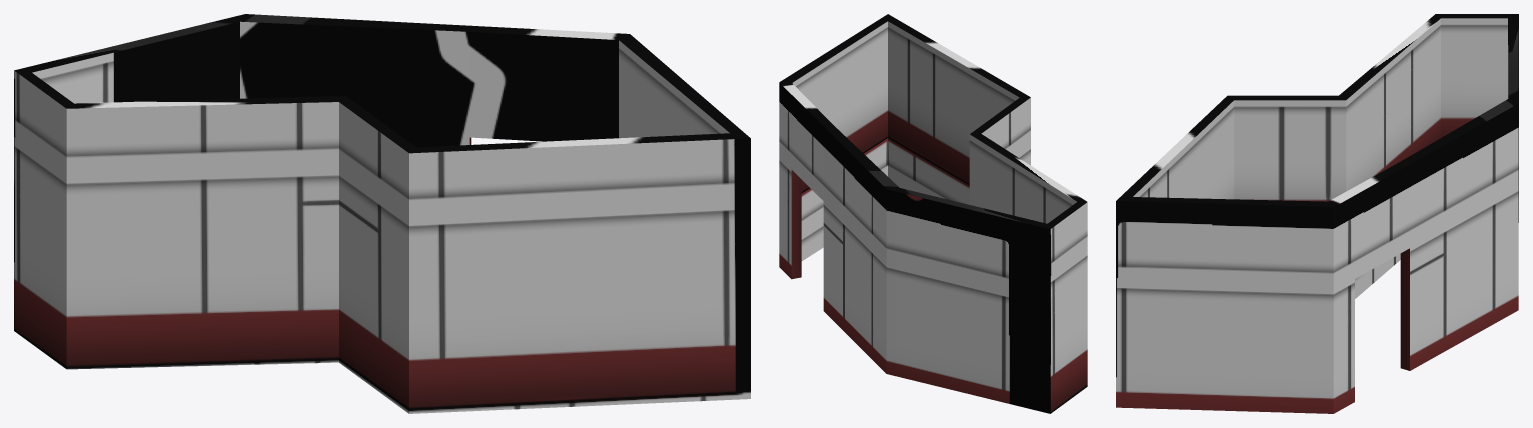
The model's file is MainFirstFloorRest0.FBX.
3 views of the same model, side by side, from view 1: azimuth 30°, elevation 25°; view 2: azimuth 150°, elevation 25°; view 3: azimuth 270°, elevation 25° (orthographic). The views are drawn at different scales.
Visible parts, largest first — view 1: Box129; view 2: Box129; view 3: Box129.
Part boxes in pixels (box(x1,y1,x2,y2)): Box129: box(14, 14, 750, 413); Box129: box(779, 14, 1087, 413); Box129: box(1116, 14, 1518, 413).
Size of the model in its own units: 139 by 69.26 by 122.
Materials: 1 (1 with a texture image).
